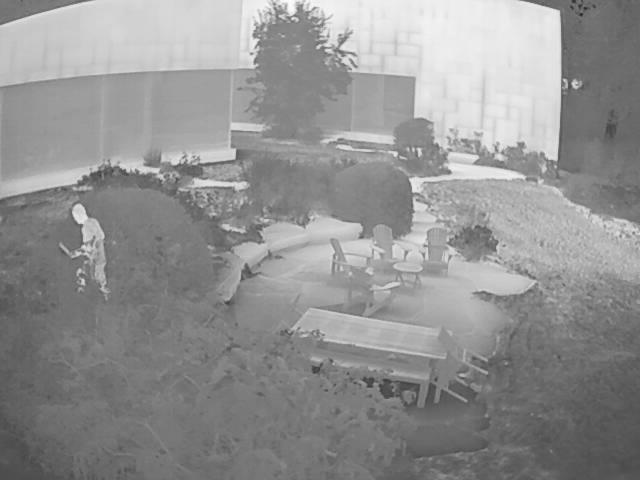person: (69, 202, 109, 306)
